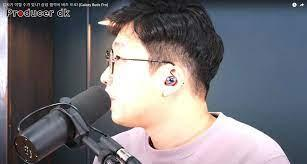earphone: (162, 73, 178, 88)
